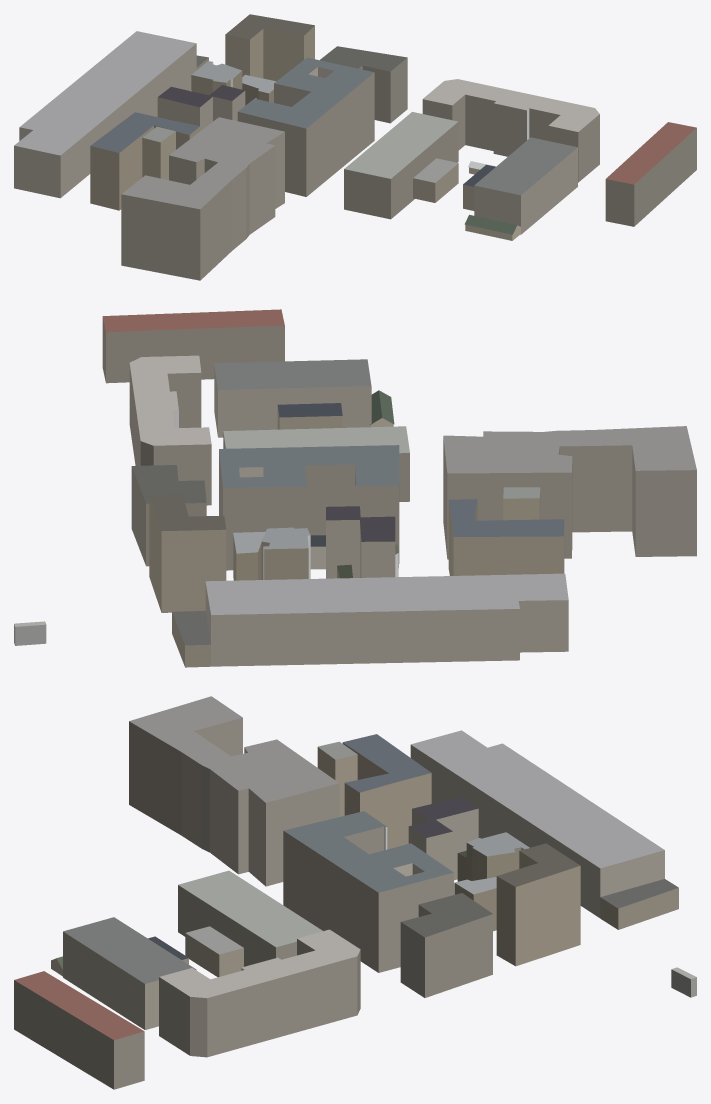
3 renders of one model, top to bottom at view 1: azimuth 30°, elevation 25°; view 2: azimuth 150°, elevation 25°; view 3: azimuth 270°, elevation 25°, orthographic. The views are drawn at different scales.
Visible parts, largest first — view 1: tuile; view 2: tuile; view 3: tuile.
Part boxes in pixels (x1,y1,x2,y2): tuile: (14, 14, 696, 280); tuile: (14, 309, 696, 667); tuile: (14, 696, 696, 1089).
Bounding box in the file's own units: 297 × 43.12 × 280.
